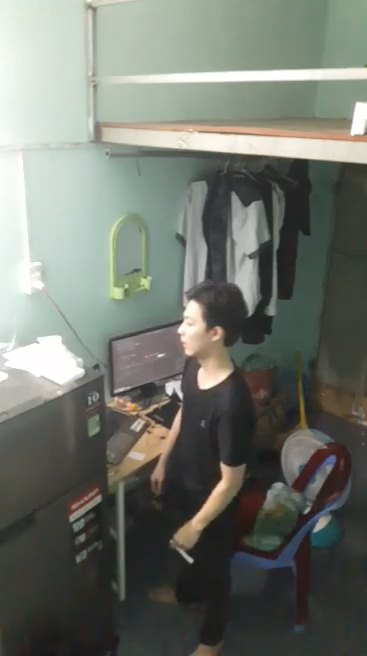person: (156, 270, 286, 656), (169, 535, 198, 566)
